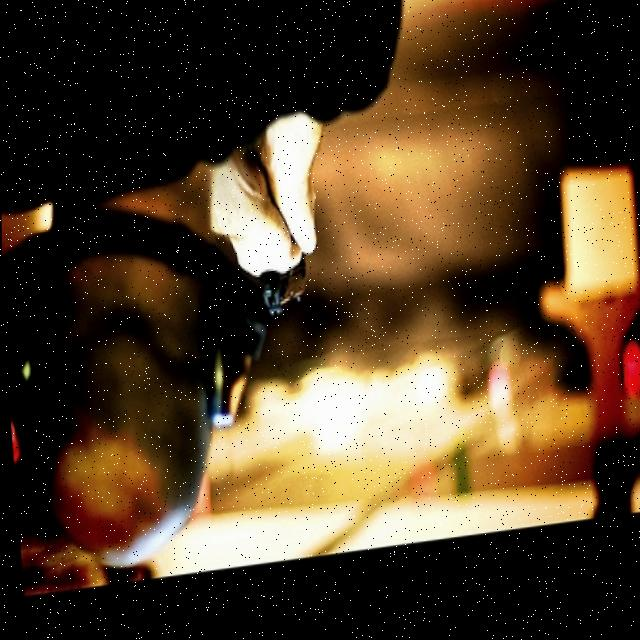pistol: (258, 253, 308, 321)
